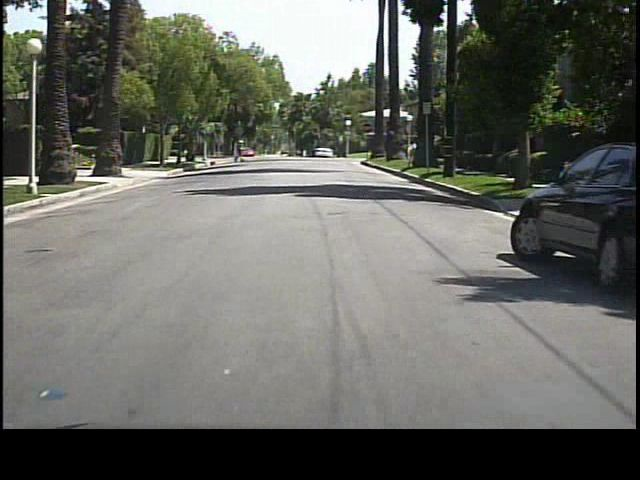person: (233, 132, 248, 164)
